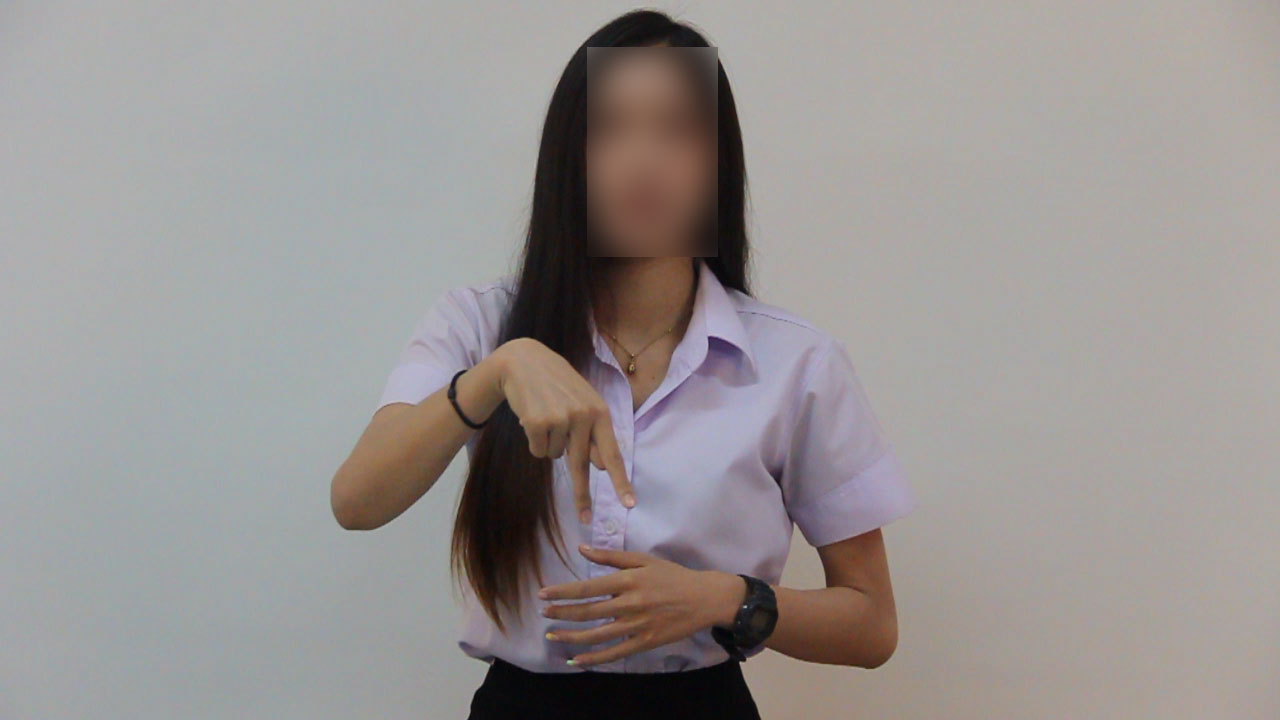por: (488, 321, 647, 530)
